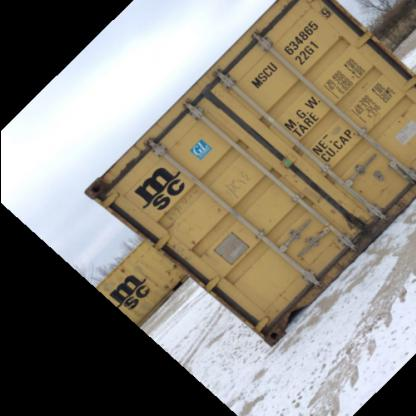Damage: (326, 197, 376, 238), (159, 192, 200, 226), (214, 169, 251, 197), (256, 310, 287, 340), (83, 176, 105, 200), (352, 66, 369, 92)
